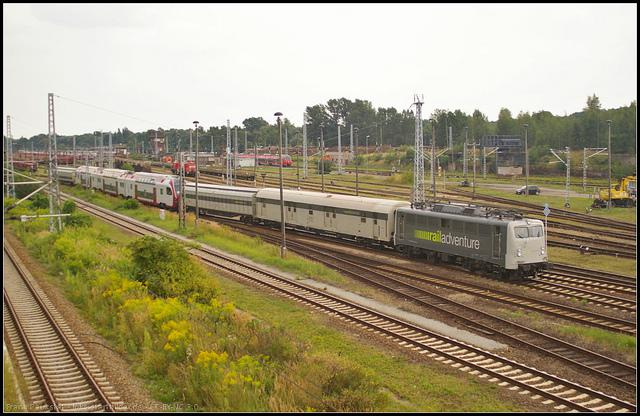Train: (183, 181, 549, 273), (55, 165, 183, 212), (230, 155, 293, 166), (13, 159, 38, 172)
